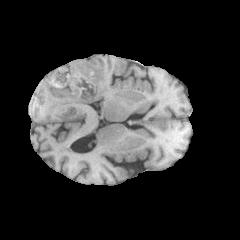glioma: (36, 60, 106, 122)
